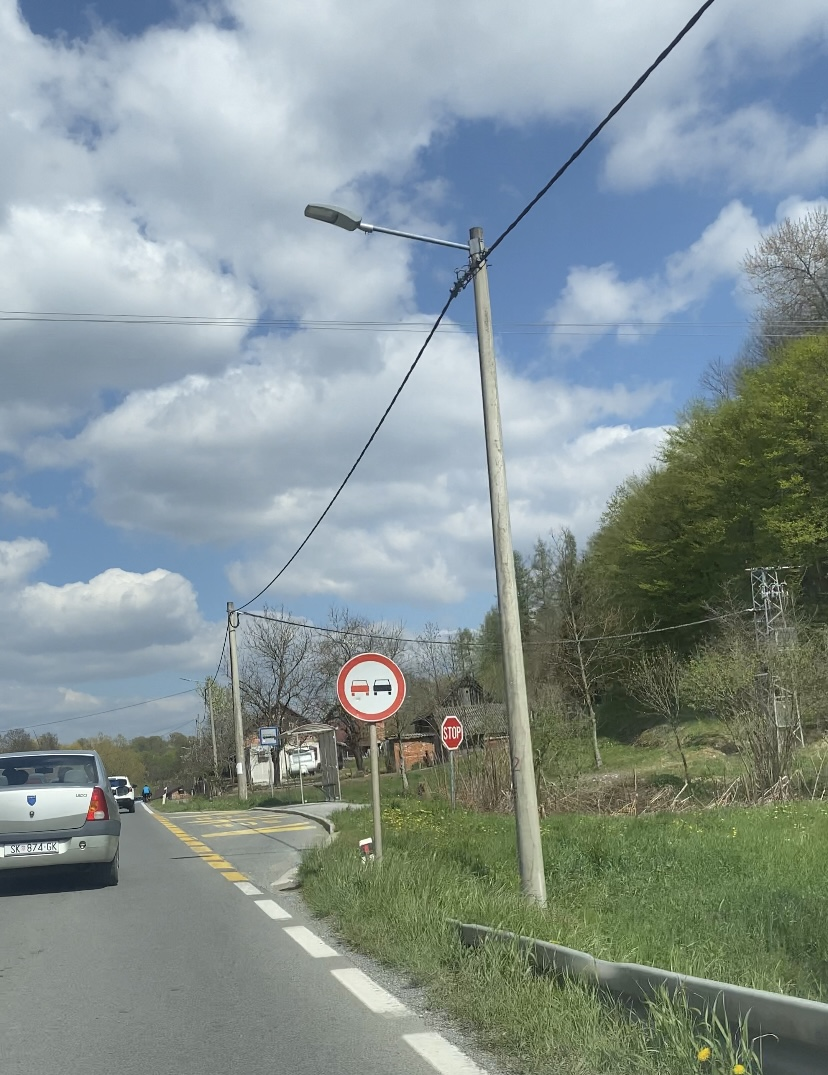Obavezno zaustavljanje: (441, 716, 464, 750)
Zabrana pretjecanja: (337, 653, 406, 723)
